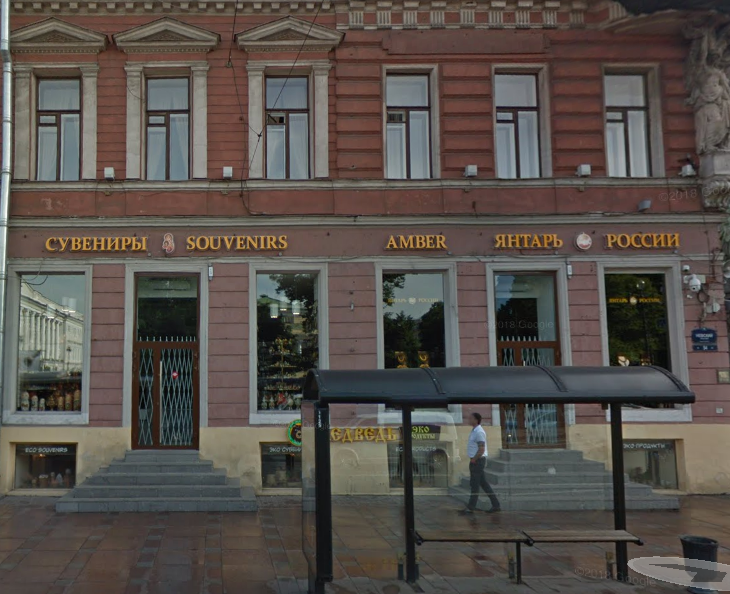door: (135, 344, 198, 445)
signboard: (382, 228, 684, 252), (45, 231, 301, 258)
window: (17, 275, 80, 415), (261, 271, 316, 413), (385, 269, 447, 365), (606, 271, 668, 366), (603, 73, 654, 177), (492, 270, 559, 342), (387, 72, 432, 177), (144, 75, 187, 179), (496, 75, 539, 177), (134, 272, 196, 341), (37, 79, 78, 180), (267, 79, 306, 176)
